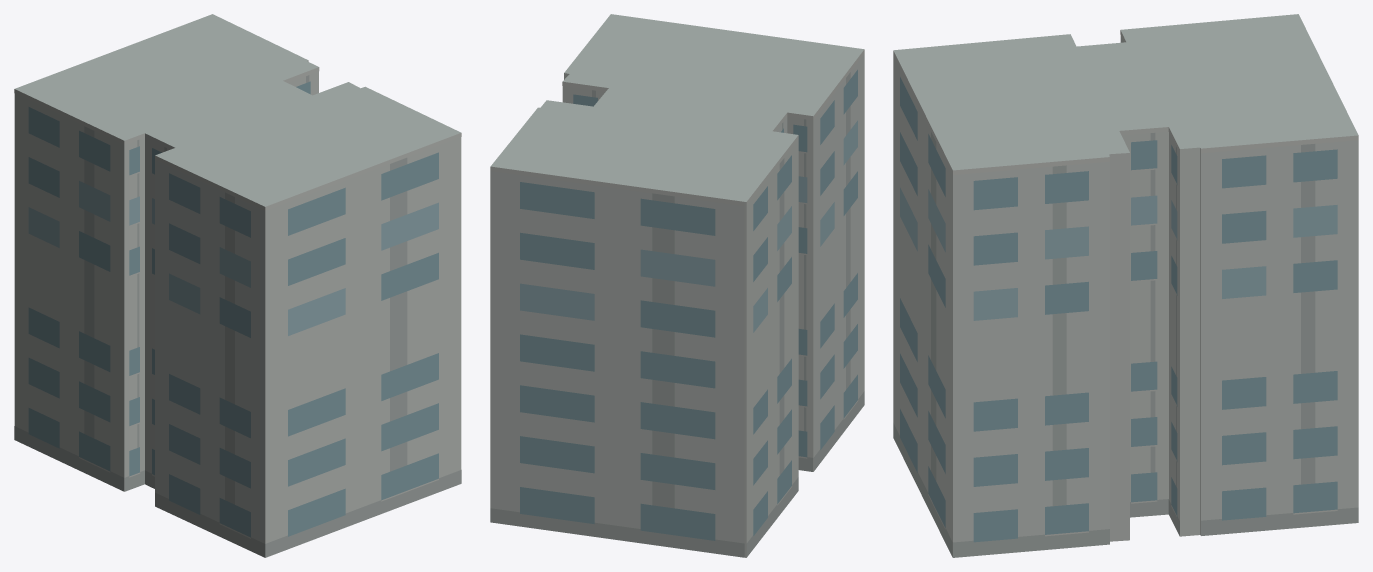
The model's file is survey-upis-33027563.glb.
3 views of the same model, side by side, from view 1: azimuth 30°, elevation 25°; view 2: azimuth 150°, elevation 25°; view 3: azimuth 270°, elevation 25° (orthographic). The views are drawn at different scales.
Visible parts, largest first — view 1: survey-upis-33027563.tmp; view 2: survey-upis-33027563.tmp; view 3: survey-upis-33027563.tmp.
Boxes of the visible parts, box(x1,y1,x2,y2) form: survey-upis-33027563.tmp: box(14, 14, 461, 557); survey-upis-33027563.tmp: box(490, 14, 864, 557); survey-upis-33027563.tmp: box(893, 14, 1358, 557).
Bounding box in the file's own units: 17.32 × 20 × 21.78.
